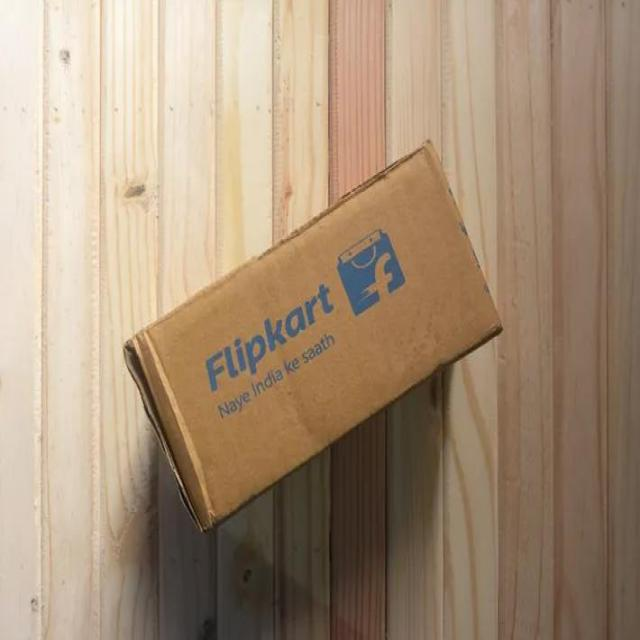box: (123, 141, 501, 529)
